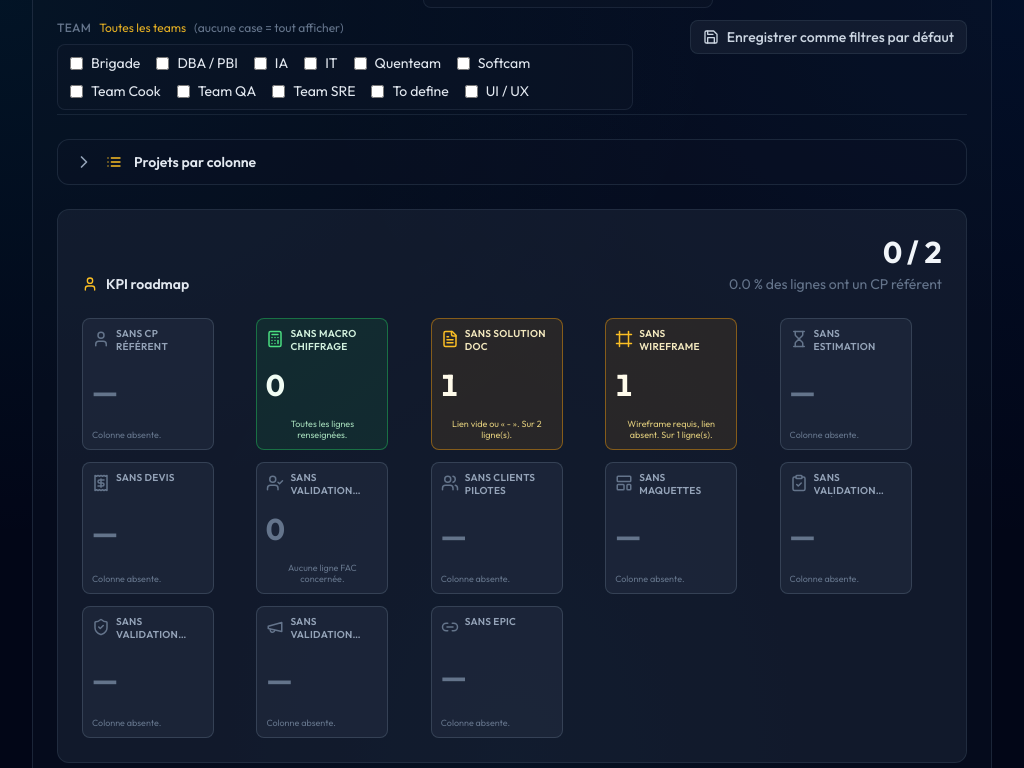
ProduitDashboard › ouvre le détail d’un encart « Sans … » et respecte la colonne « … requis ? »
(page scrolled)
Click the button titled "Sans solution doc — voir le détail des lignes" at (497, 384), box [431, 318, 563, 450]
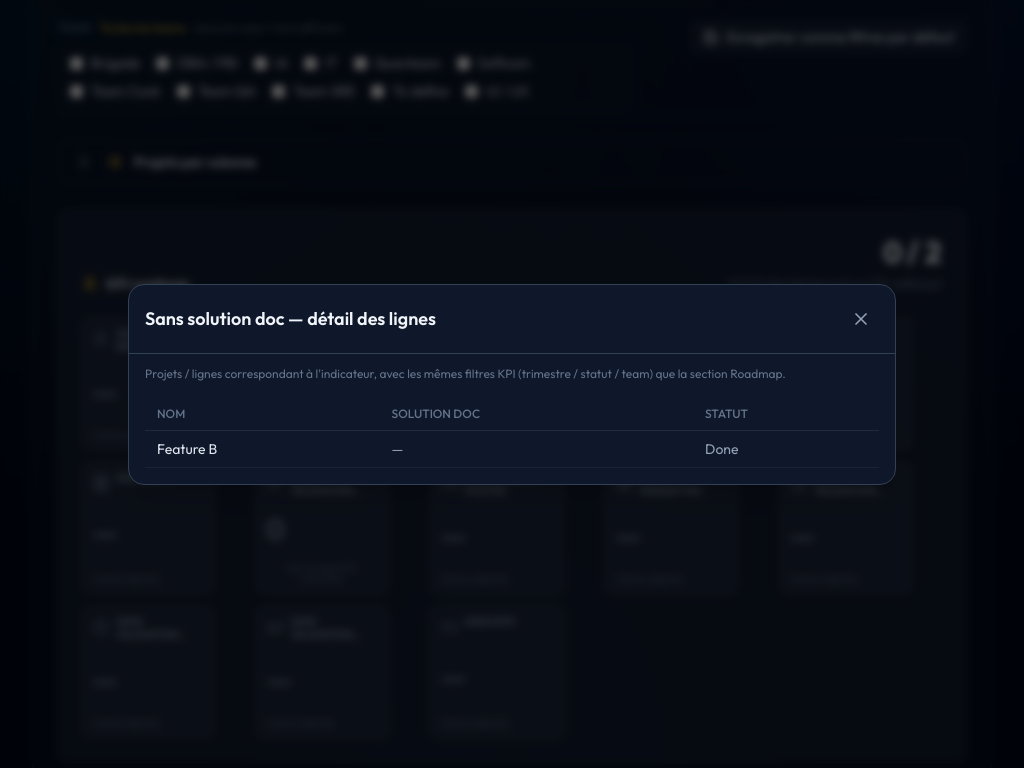
expect the text "Feature A" is not shown: met
expect the text "Feature B" is shown: met, box [145, 430, 380, 467]
Click the button at (861, 318), box [843, 300, 879, 336]
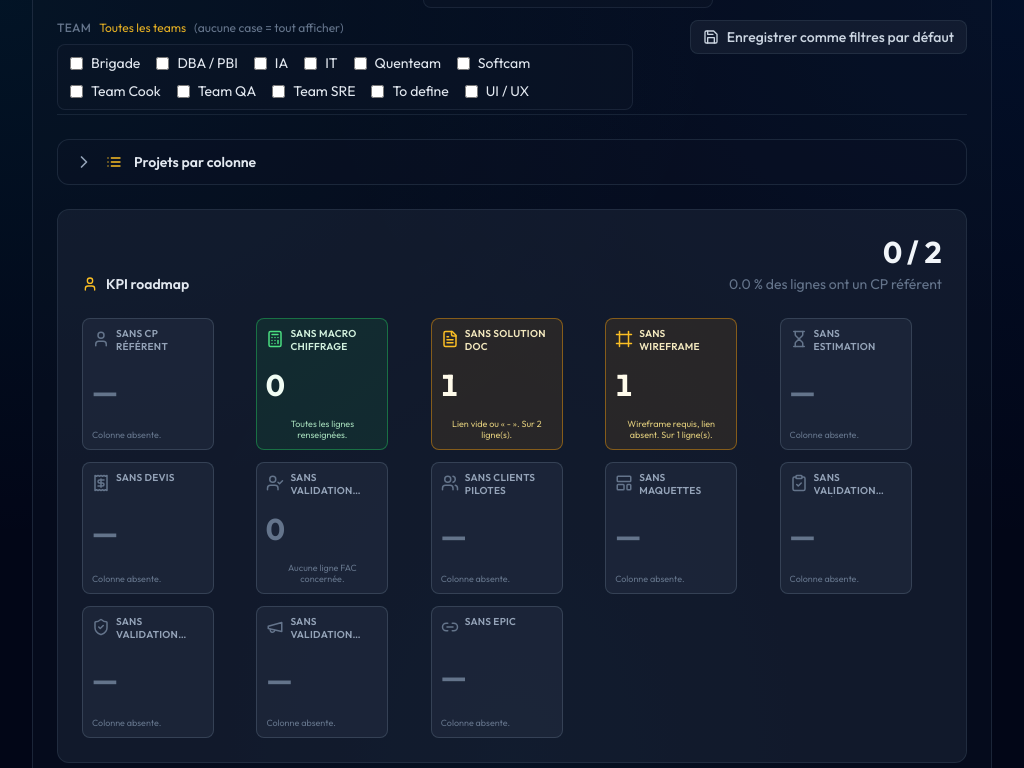
Click the button titled "Sans wireframe — voir le détail des lignes" at (671, 384), box [605, 318, 737, 450]
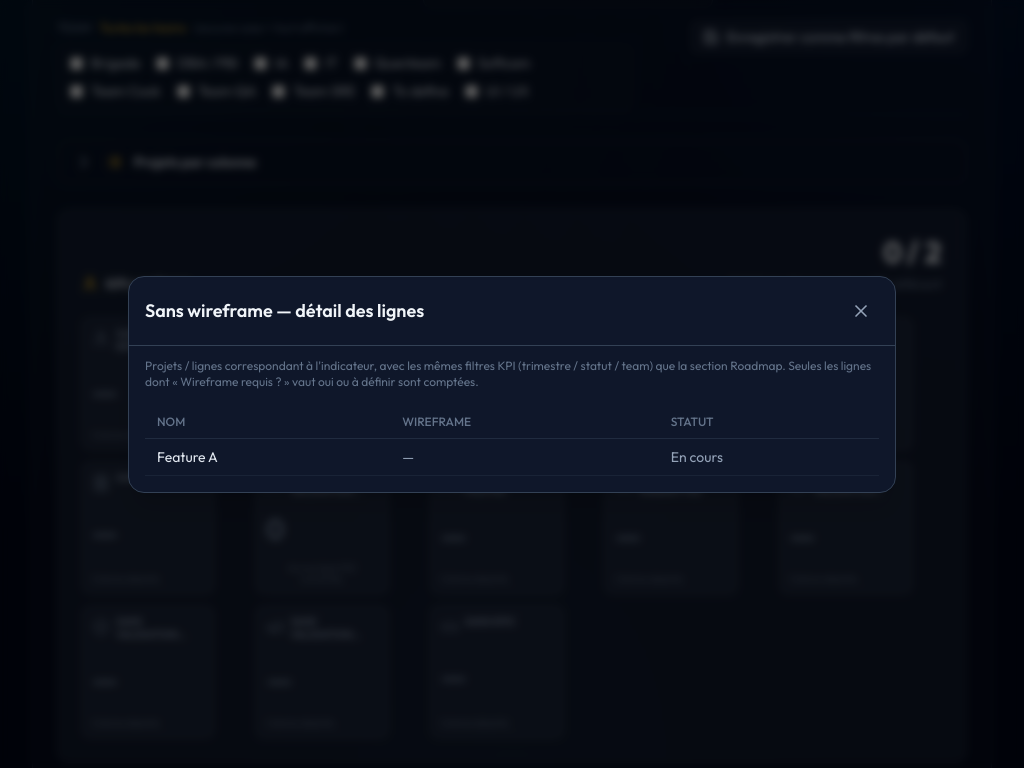
expect the text "Feature B" is not shown: met
expect the text "Wireframe requis ?" is shown: met, box [180, 374, 282, 388]
expect the text "Feature A" is shown: met, box [145, 438, 390, 475]
